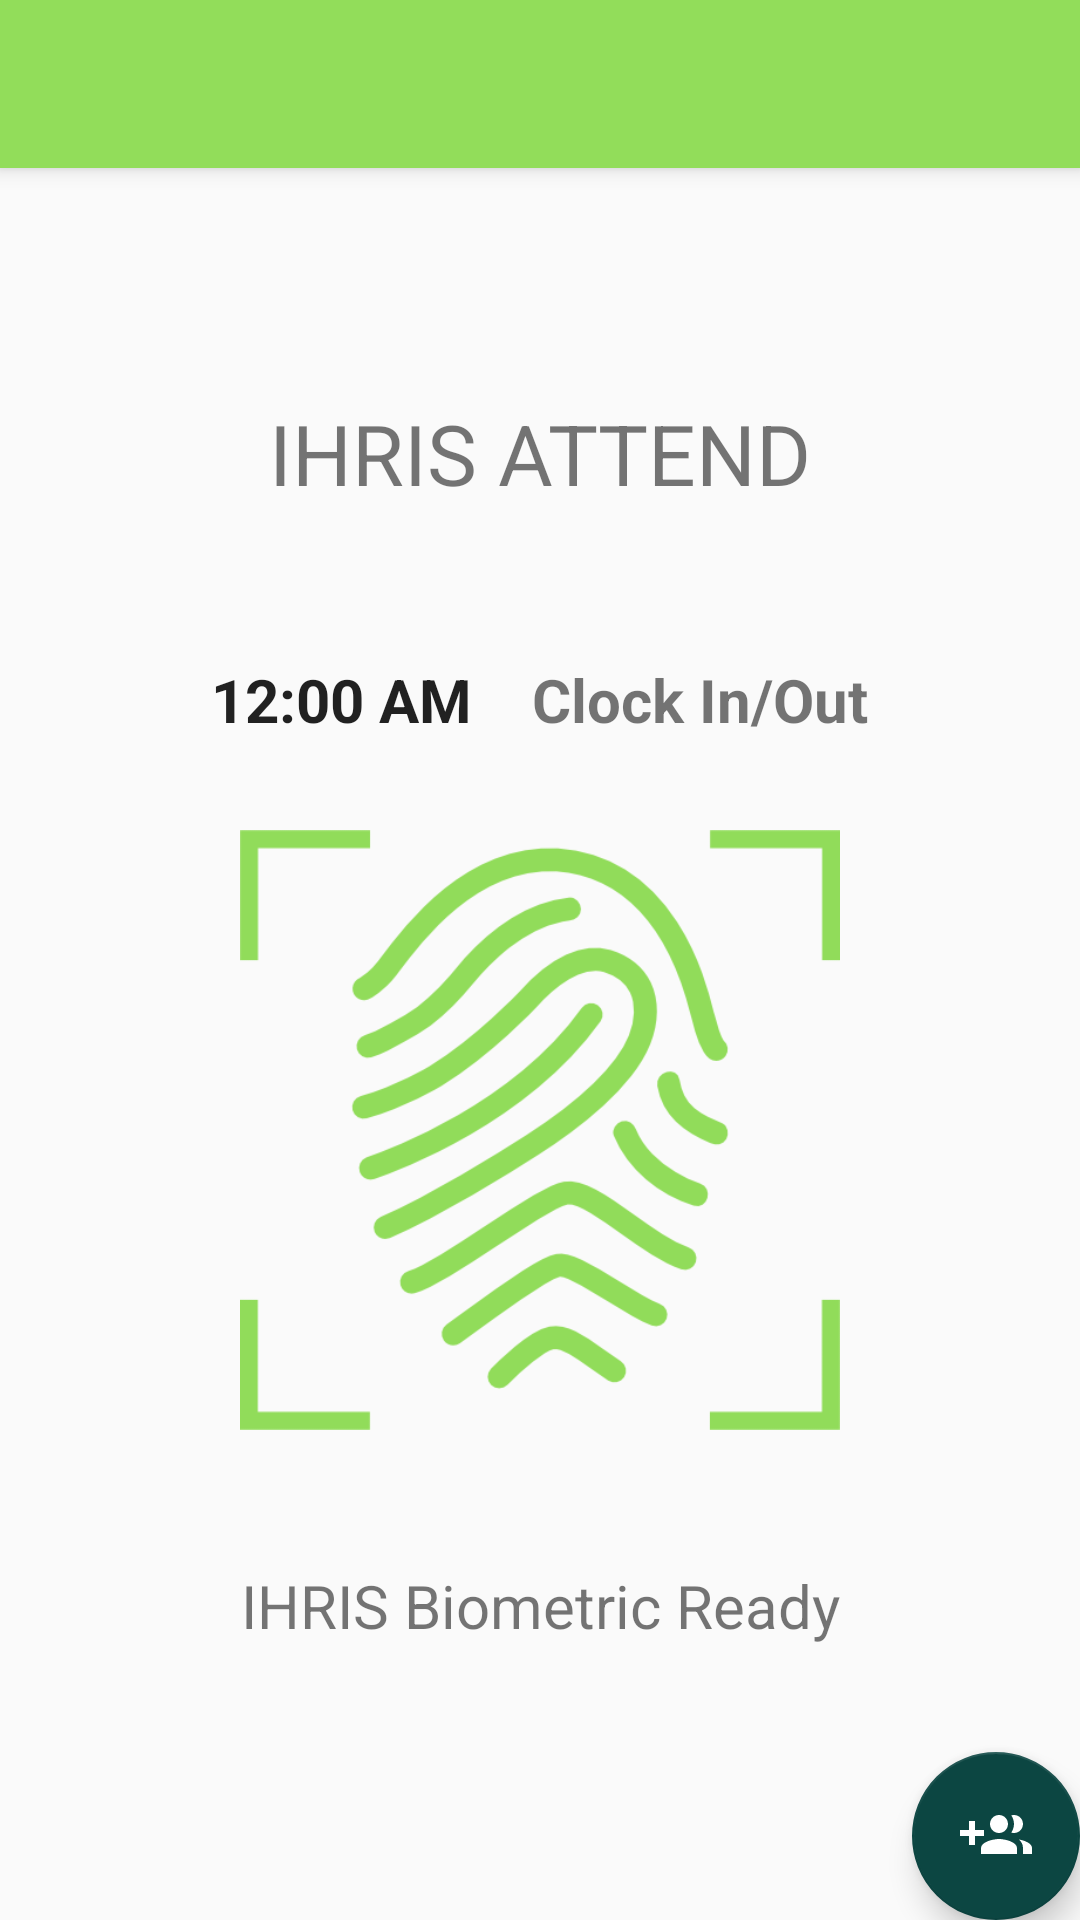

Named icons in this screenshot (1080 × 1920) and their bounding boxes, (x1, y1, x2, y2):
enroll users: (912, 1752, 1080, 1920)
